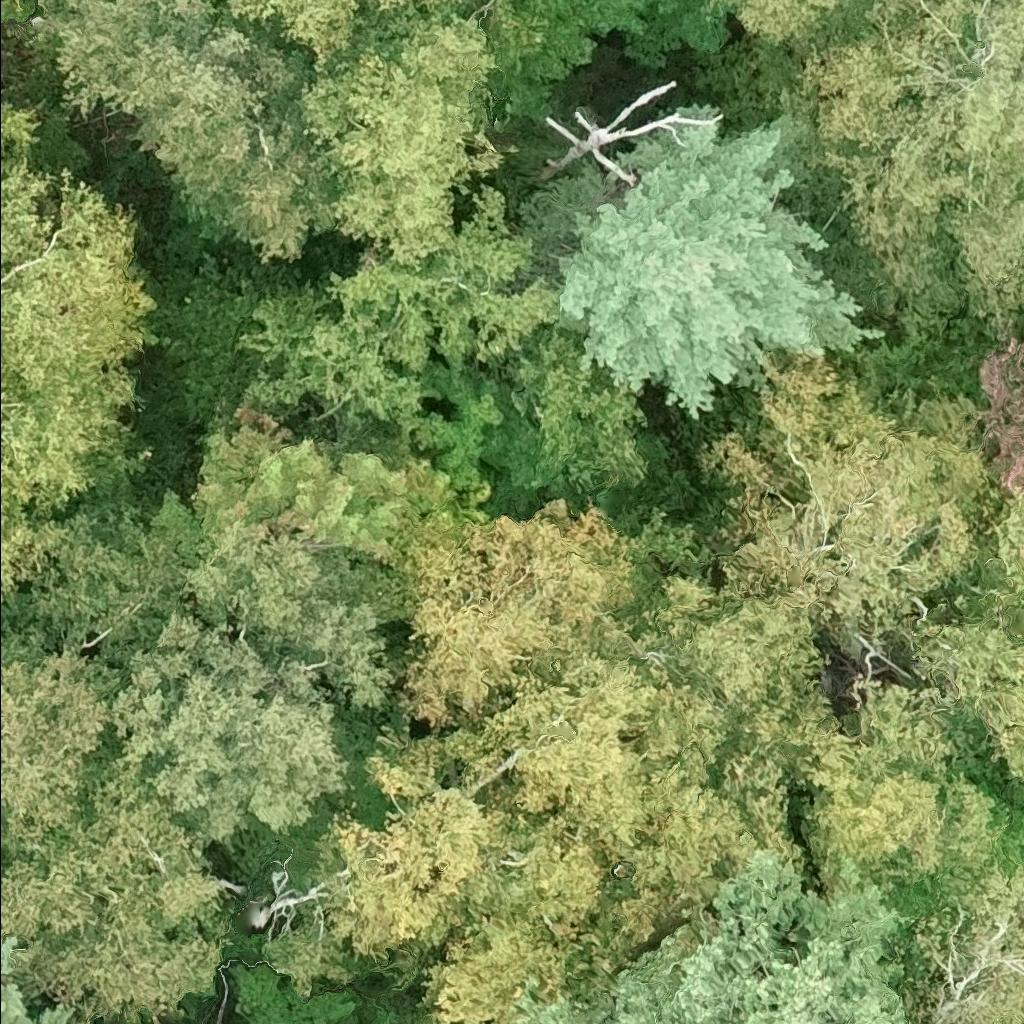crown: (464, 555, 844, 947), (550, 102, 890, 423), (683, 348, 1004, 648), (316, 724, 635, 1023), (110, 533, 413, 847), (27, 0, 337, 268), (0, 97, 160, 602), (790, 0, 1023, 334), (511, 846, 912, 1023), (0, 734, 233, 1023), (294, 183, 559, 428), (296, 0, 508, 273), (395, 496, 640, 730), (793, 681, 1011, 925), (189, 404, 462, 569), (908, 492, 1023, 781), (0, 503, 188, 672), (0, 618, 129, 859), (896, 861, 1023, 1023), (537, 79, 728, 184), (215, 0, 409, 67), (699, 0, 854, 55), (0, 933, 93, 1023), (227, 963, 360, 1023), (975, 334, 1023, 493), (335, 994, 399, 1023), (674, 103, 728, 118), (409, 0, 459, 13), (728, 115, 728, 116)
